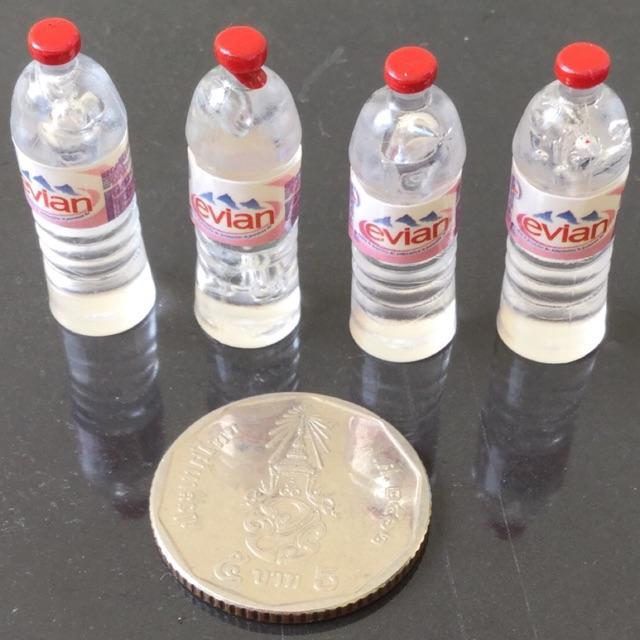bottle: (1, 10, 162, 343), (490, 30, 638, 373), (336, 32, 478, 370), (174, 19, 314, 354)
